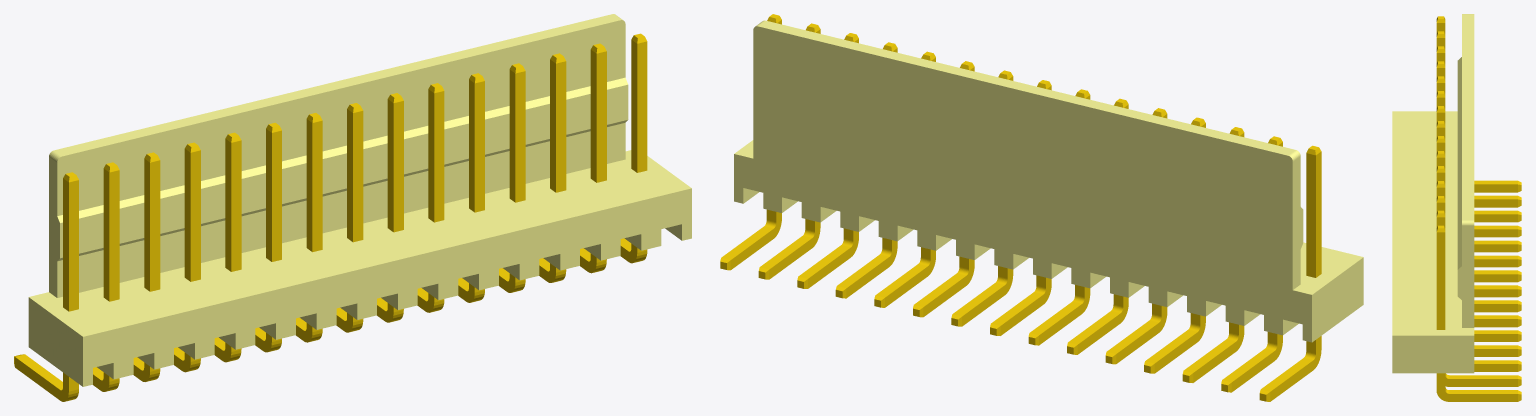
The model's file is DS1070-15MR (WF-15RA CONNFLY).obj.
3 renders of one model, left to right at view 1: azimuth 30°, elevation 25°; view 2: azimuth 150°, elevation 25°; view 3: azimuth 270°, elevation 25°, orthographic. The views are drawn at different scales.
Visible parts, largest first — view 1: DS1070-15MR_(WF-15RA_CONNFLY); view 2: DS1070-15MR_(WF-15RA_CONNFLY); view 3: DS1070-15MR_(WF-15RA_CONNFLY).
Boxes of the visible parts, x1=… form: DS1070-15MR_(WF-15RA_CONNFLY): x1=14, y1=14, x2=691, y2=401; DS1070-15MR_(WF-15RA_CONNFLY): x1=720, y1=14, x2=1363, y2=401; DS1070-15MR_(WF-15RA_CONNFLY): x1=1392, y1=14, x2=1521, y2=401.
Size of the model in its own units: 0.0272 by 0.0101 by 0.00664.
